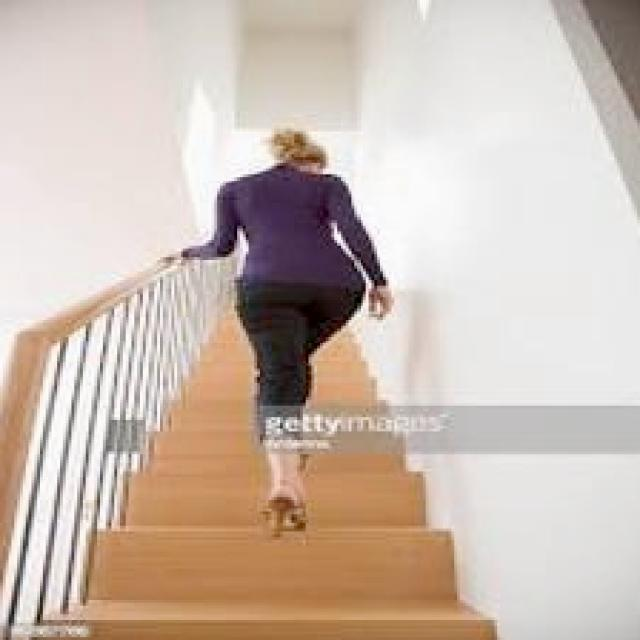upstair: (87, 401, 481, 638)
